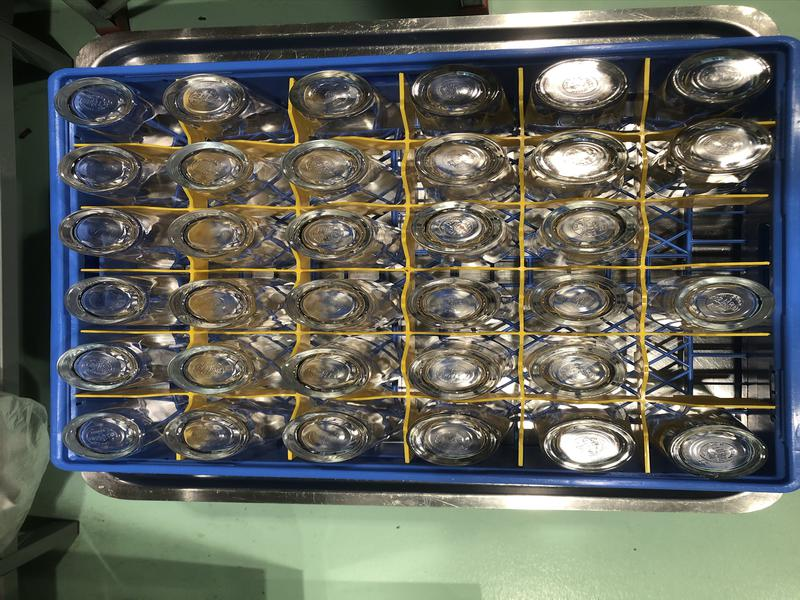Glass: (162, 74, 292, 138), (651, 273, 778, 331), (410, 133, 516, 201), (532, 56, 636, 125), (660, 119, 770, 184), (407, 65, 517, 129), (164, 144, 283, 203), (667, 51, 778, 114), (292, 65, 395, 131), (169, 208, 288, 265), (56, 144, 174, 201), (284, 140, 393, 201), (539, 201, 643, 264), (660, 416, 766, 477), (408, 409, 511, 471), (283, 209, 398, 264), (56, 208, 164, 266), (532, 408, 631, 471), (55, 77, 160, 136), (408, 201, 508, 262), (530, 131, 629, 192), (281, 408, 385, 466), (525, 341, 626, 400), (63, 405, 164, 462), (53, 345, 168, 395), (65, 276, 176, 325), (286, 278, 385, 332), (169, 278, 269, 329), (408, 278, 505, 330), (413, 341, 497, 401), (168, 411, 269, 460), (284, 345, 373, 400), (174, 345, 272, 393), (531, 274, 625, 324)
